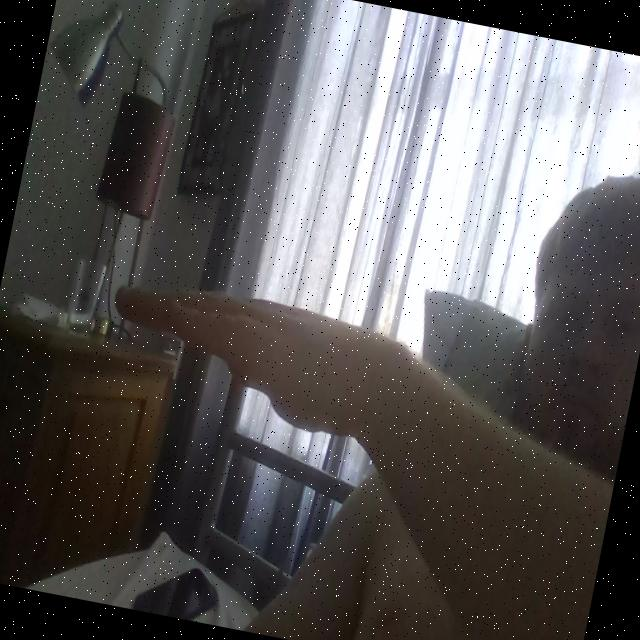papper: (95, 271, 412, 461)
